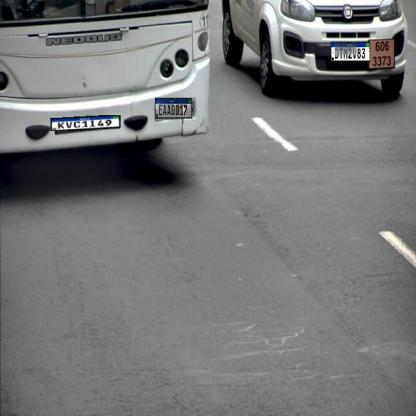PlacaM: (50, 115, 121, 131), (331, 42, 370, 62), (155, 98, 192, 119)
